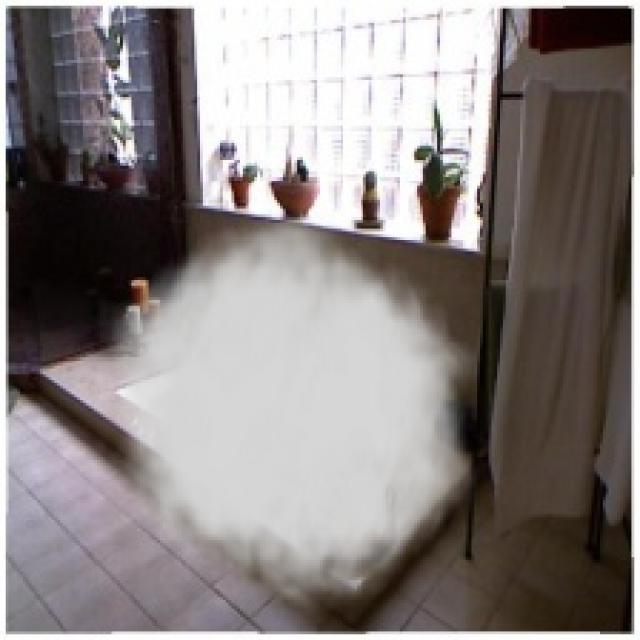smoke: (94, 200, 477, 623)
